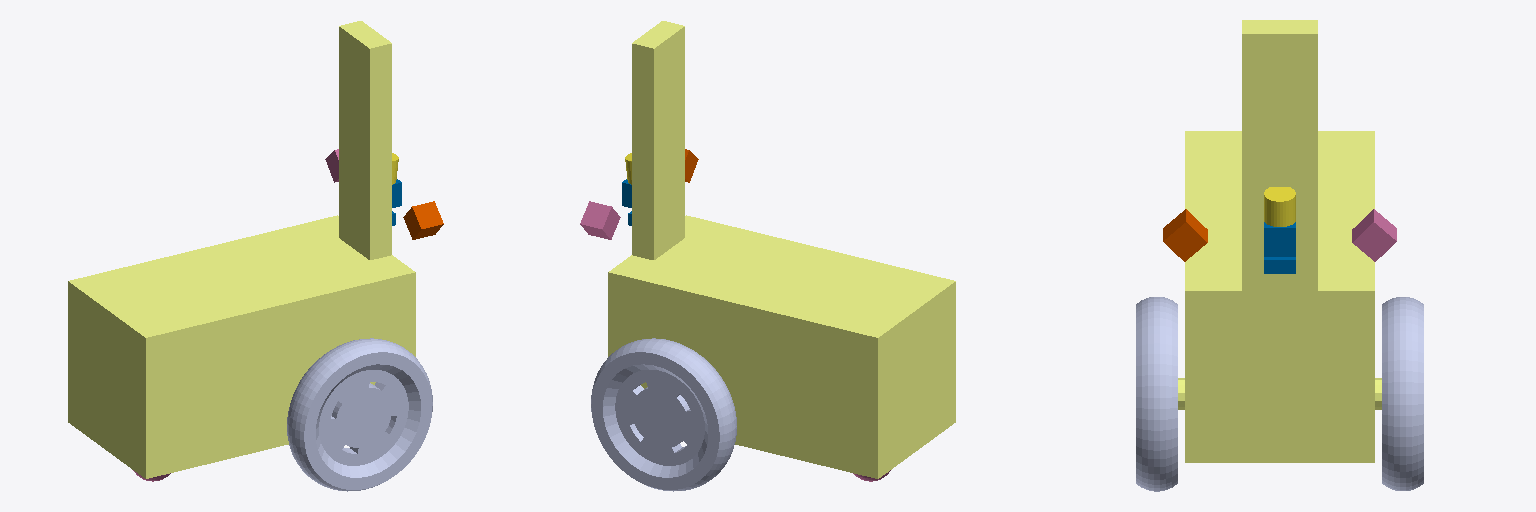
robot.urdf — AutoBot:
<?xml version="1.0" encoding="utf-8"?>
<!-- This URDF was automatically created by SolidWorks to URDF Exporter! Originally created by [author] ([email redacted]) 
     Commit Version: 1.6.0-1-g15f4949  Build Version: 1.6.7594.29634
     For more information, please see http://wiki.ros.org/sw_urdf_exporter -->
<robot
  name="AutoBot">
  <link
    name="base_link">
    <inertial>
      <origin
        xyz="-0.0281176186318505 3.46944695195361E-18 0.0242056021265495"
        rpy="0 0 0" />
      <mass
        value="20" />
      <inertia
        ixx="39.3347960457863"
        ixy="2.85952776841653E-16"
        ixz="-8.3846836729522"
        iyy="84.2765821819787"
        iyz="5.58570830390226E-15"
        izz="71.4566092301352" />
    </inertial>
    <visual>
      <origin
        xyz="0 0 0"
        rpy="0 0 0" />
      <geometry>
        <mesh
          filename="package://AutoBot/meshes/base_link.STL" />
      </geometry>
      <material
        name="">
        <color
          rgba="0.968627450980392 1 0.576470588235294 1" />
      </material>
    </visual>
    <collision>
      <origin
        xyz="0 0 0"
        rpy="0 0 0" />
      <geometry>
        <mesh
          filename="package://AutoBot/meshes/base_link.STL" />
      </geometry>
    </collision>
  </link>
  <link
    name="base_link_to_Left_wheel">
    <inertial>
      <origin
        xyz="5.5511E-17 -0.029868 -1.1102E-16"
        rpy="0 0 0" />
      <mass
        value="8" />
      <inertia
        ixx="0.75096"
        ixy="-1.4332E-17"
        ixz="-1.5881E-17"
        iyy="1.4522"
        iyz="9.1965E-17"
        izz="0.75096" />
    </inertial>
    <visual>
      <origin
        xyz="0 0 0"
        rpy="0 0 0" />
      <geometry>
        <mesh
          filename="package://AutoBot/meshes/base_link_to_Left_wheel.STL" />
      </geometry>
      <material
        name="">
        <color
          rgba="0.79216 0.81961 0.93333 1" />
      </material>
    </visual>
    <collision>
      <origin
        xyz="0 0 0"
        rpy="0 0 0" />
      <geometry>
        <mesh
          filename="package://AutoBot/meshes/base_link_to_Left_wheel.STL" />
      </geometry>
    </collision>
  </link>
  <joint
    name="Left_wheel"
    type="continuous">
    <origin
      xyz="0.24475 0.42 -0.2107"
      rpy="0 0 0" />
    <parent
      link="base_link" />
    <child
      link="base_link_to_Left_wheel" />
    <axis
      xyz="0 1 0" />
  </joint>
  <link
    name="base_link_to_Right_wheel">
    <inertial>
      <origin
        xyz="2.2204E-16 0.029868 -1.1102E-16"
        rpy="0 0 0" />
      <mass
        value="8" />
      <inertia
        ixx="0.75096"
        ixy="1.9739E-18"
        ixz="-6.8063E-17"
        iyy="1.4522"
        iyz="4.3994E-18"
        izz="0.75096" />
    </inertial>
    <visual>
      <origin
        xyz="0 0 0"
        rpy="0 0 0" />
      <geometry>
        <mesh
          filename="package://AutoBot/meshes/base_link_to_Right_wheel.STL" />
      </geometry>
      <material
        name="">
        <color
          rgba="0.79216 0.81961 0.93333 1" />
      </material>
    </visual>
    <collision>
      <origin
        xyz="0 0 0"
        rpy="0 0 0" />
      <geometry>
        <mesh
          filename="package://AutoBot/meshes/base_link_to_Right_wheel.STL" />
      </geometry>
    </collision>
  </link>
  <joint
    name="Right_wheel"
    type="continuous">
    <origin
      xyz="0.24475 -0.42 -0.2107"
      rpy="0 0 0" />
    <parent
      link="base_link" />
    <child
      link="base_link_to_Right_wheel" />
    <axis
      xyz="0 1 0" />
  </joint>

  <link name="lidar">
    <visual>
      <geometry>
        <cylinder radius="0.05" length="0.1"/>
      </geometry>
    </visual>
  </link>

  <gazebo reference="lidar">
    <sensor type="ray" name="lidar">
      <visualize>false</visualize>
      <update_rate>10</update_rate>
      <ray>
        <!-- Use gaussian noise -->
        <!--
        <noise>
        <type>gaussian</type>
        <mean>0.0</mean>
        <stddev>0.02</stddev>
      </noise>
      -->
        <scan>
          <horizontal>
            <samples>100</samples>
            <resolution>3.6</resolution>
            <min_angle>-3.14159265359</min_angle>
            <max_angle>3.14159265359</max_angle>
          </horizontal>
        </scan>
        <range>
          <min>0.05</min>
          <max>30</max>
          <resolution>0.02</resolution>
        </range>
      </ray>
      <plugin name="lidar_plugin" filename="libgazebo_ros_laser.so">
        <topicName>/scan</topicName>
        <frameName>/lidar</frameName>
      </plugin>
    </sensor>
  </gazebo>

  <link name="usb_cam_center">
    <visual>
      <geometry>
        <box size="0.1 0.1 0.1"/>
      </geometry>
    </visual>
  </link>

  <link name="usb_cam_right">
    <visual>
      <geometry>
        <box size="0.1 0.1 0.1"/>
      </geometry>
    </visual>
  </link>

  <link name="usb_cam_left">
    <visual>
      <geometry>
        <box size="0.1 0.1 0.1"/>
      </geometry>
    </visual>
  </link>

  <link name="optical_cam_center"/>
  <link name="optical_cam_right"/>
  <link name="optical_cam_left"/>

  <gazebo reference="usb_cam_center">
    <sensor name="center_camera" type="camera">
        <camera>
          <!-- <horizontal_fov>1.2290609</horizontal_fov> -->
          <horizontal_fov>2.239</horizontal_fov>
          <vertical_fov>1.995</vertical_fov>
          <image>
            <width>640</width>
            <height>512</height>
          </image>
          <clip>
            <near>0.1</near>
            <far>100</far>
          </clip>
          <!--
          <distortion>
            <k1>-0.25</k1>
            <k2>0.12</k2>
            <k3>0.0</k3>
            <p1>-0.00028</p1>
            <p2>-0.00005</p2>
            <center>0.5 0.5</center>
          </distortion>
          -->
        </camera>
        <always_on>1</always_on>
        <update_rate>30</update_rate>
        <plugin name="camera_controller" filename="libgazebo_ros_camera.so">
          <alwaysOn>true</alwaysOn>
          <updateRate>30.0</updateRate>
          <cameraName>usb_cam_center</cameraName>
          <imageTopicName>image_raw_center</imageTopicName>
          <cameraInfoTopicName>camera_info</cameraInfoTopicName>
          <frameName>optical_cam_center</frameName>
          <hackBaseline>0.0</hackBaseline>
          <distortionK1>0.0</distortionK1>
          <distortionK2>0.0</distortionK2>
          <distortionK3>0.0</distortionK3>
          <distortionT1>0.0</distortionT1>
          <distortionT2>0.0</distortionT2>
        </plugin>
      </sensor>
  </gazebo>

  <gazebo reference="usb_cam_right">
    <sensor name="right_camera" type="camera">
        <camera>
          <!-- <horizontal_fov>1.2290609</horizontal_fov> -->
          <horizontal_fov>2.239</horizontal_fov>
          <vertical_fov>1.995</vertical_fov>
          <image>
            <width>640</width>
            <height>512</height>
          </image>
          <clip>
            <near>0.1</near>
            <far>100</far>
          </clip>
          <!--
          <distortion>
            <k1>-0.25</k1>
            <k2>0.12</k2>
            <k3>0.0</k3>
            <p1>-0.00028</p1>
            <p2>-0.00005</p2>
            <center>0.5 0.5</center>
          </distortion>
          -->
        </camera>
        <always_on>1</always_on>
        <update_rate>30</update_rate>
        <plugin name="camera_controller" filename="libgazebo_ros_camera.so">
          <alwaysOn>true</alwaysOn>
          <updateRate>30.0</updateRate>
          <cameraName>usb_cam_right</cameraName>
          <imageTopicName>image_raw_right</imageTopicName>
          <cameraInfoTopicName>camera_info</cameraInfoTopicName>
          <frameName>optical_cam_right</frameName>
          <hackBaseline>0.0</hackBaseline>
          <distortionK1>0.0</distortionK1>
          <distortionK2>0.0</distortionK2>
          <distortionK3>0.0</distortionK3>
          <distortionT1>0.0</distortionT1>
          <distortionT2>0.0</distortionT2>
        </plugin>
      </sensor>
  </gazebo>

  <gazebo reference="usb_cam_left">
    <sensor name="left_camera" type="camera">
        <camera>
          <!-- <horizontal_fov>1.2290609</horizontal_fov> -->
          <horizontal_fov>2.239</horizontal_fov>
          <vertical_fov>1.995</vertical_fov>
          <image>
            <width>640</width>
            <height>512</height>
          </image>
          <clip>
            <near>0.1</near>
            <far>100</far>
          </clip>
          <!--
          <distortion>
            <k1>-0.25</k1>
            <k2>0.12</k2>
            <k3>0.0</k3>
            <p1>-0.00028</p1>
            <p2>-0.00005</p2>
            <center>0.5 0.5</center>
          </distortion>
          -->
        </camera>
        <always_on>1</always_on>
        <update_rate>30</update_rate>
        <plugin name="camera_controller" filename="libgazebo_ros_camera.so">
          <alwaysOn>true</alwaysOn>
          <updateRate>30.0</updateRate>
          <cameraName>usb_cam_left</cameraName>
          <imageTopicName>image_raw_left</imageTopicName>
          <cameraInfoTopicName>camera_info</cameraInfoTopicName>
          <frameName>optical_cam_left</frameName>
          <hackBaseline>0.0</hackBaseline>
          <distortionK1>0.0</distortionK1>
          <distortionK2>0.0</distortionK2>
          <distortionK3>0.0</distortionK3>
          <distortionT1>0.0</distortionT1>
          <distortionT2>0.0</distortionT2>
        </plugin>
      </sensor>
  </gazebo>

  <link name="imu">
    <visual>
      <geometry>
        <box size="0.1 0.1 0.1"/>
      </geometry>
    </visual>
  </link>

  <link name="magnetometer">
    <visual>
      <geometry>
        <box size="0.1 0.1 0.1"/>
      </geometry>
    </visual>
  </link>

  <link name="kinect_cam">
    <visual>
      <geometry>
        <box size="0.1 0.1 0.05"/>
      </geometry>
    </visual>
  </link>

  <link name="gps">
    <visual>
      <geometry>
        <cylinder length="0.05" radius="0.1"/>
      </geometry>
    </visual>
  </link>

  <gazebo>

    <plugin name="gazebo_ros_control" filename="libgazebo_ros_control.so">
      <robotSimType>gazebo_ros_control/DefaultRobotHWSim</robotSimType>
    </plugin>

    <plugin filename="libhector_gazebo_ros_imu.so" name="imu">
      <serviceName>/imu/calibrate</serviceName>
      <updateRate>200.0</updateRate>
      <bodyName>imu</bodyName>
      <frameId>imu</frameId>
      <topicName>/imu</topicName>
      <rpyOffset>0 0 0</rpyOffset>
      <xyzOffset>0 0 0</xyzOffset>
      <gaussianNoise>0.00000001</gaussianNoise>
      <accelDrift>0.00000001 0.00000001 0.00000001</accelDrift>
      <accelDriftFrequency>0.00000001 0.00000001 0.00000001</accelDriftFrequency>
      <accelGaussianNoise>0.00000001 0.00000001 0.00000001</accelGaussianNoise>
      <rateDrift>0.0 0.0 0.0</rateDrift>
      <rateDriftFrequency>0.0 0.0 0.0</rateDriftFrequency>
      <rateGaussianNoise>0.0 0.0 0.0</rateGaussianNoise>
      <headingDrift>0.0 0.0 0.0</headingDrift>
      <headingDriftFrequency>0.0 0.0 0.0</headingDriftFrequency>
      <headingGaussianNoise>0.0 0.0 0.0</headingGaussianNoise>
      <yawOffset>1.5707963</yawOffset>
    </plugin>
    <plugin filename="libhector_gazebo_ros_imu.so" name="magnetometer">
      <serviceName>/magnetometer/calibrate</serviceName>
      <updateRate>200.0</updateRate>
      <bodyName>magnetometer</bodyName>
      <frameId>magnetometer</frameId>
      <topicName>/magnetometer</topicName>
      <rpyOffset>0 0 0</rpyOffset>
      <xyzOffset>0 0 0</xyzOffset>
      <gaussianNoise>0.00000001</gaussianNoise>
      <accelDrift>0.00000001 0.00000001 0.00000001</accelDrift>
      <accelDriftFrequency>0.00000001 0.00000001 0.00000001</accelDriftFrequency>
      <accelGaussianNoise>0.00000001 0.00000001 0.00000001</accelGaussianNoise>
      <rateDrift>0.0 0.0 0.0</rateDrift>
      <rateDriftFrequency>0.0 0.0 0.0</rateDriftFrequency>
      <rateGaussianNoise>0.0 0.0 0.0</rateGaussianNoise>
      <headingDrift>0.0 0.0 0.0</headingDrift>
      <headingDriftFrequency>0.0 0.0 0.0</headingDriftFrequency>
      <headingGaussianNoise>0.0 0.0 0.0</headingGaussianNoise>
      <yawOffset>0</yawOffset>
    </plugin>

    <plugin filename="libhector_gazebo_ros_gps.so" name="gps">
      <updateRate>20.0</updateRate>
      <bodyName>base_link</bodyName>
      <frameId>base_link</frameId>
      <topicName>/fix</topicName>
      <velocityTopicName>/fix_velocity</velocityTopicName>
      <referenceLatitude>33.774497</referenceLatitude>
      <referenceLongitude>-84.405001</referenceLongitude>
      <referenceAltitude>309.0</referenceAltitude>
      <drift>0.001 0.001 0.001</drift>
      <gaussianNoise>0.0001 0.0001 0.0001</gaussianNoise>
      <velocityDrift>0 0 0</velocityDrift>
      <velocityGaussianNoise>0.005 0.005 0.05</velocityGaussianNoise>
    </plugin>

    <plugin name="differential_drive_controller" filename="libgazebo_ros_diff_drive.so">
      <updateRate>50</updateRate>
      <leftJoint>Left_wheel</leftJoint>
      <rightJoint>Right_wheel</rightJoint>
      <wheelSeparation>0.8</wheelSeparation>
      <wheelDiameter>0.31</wheelDiameter>
      <wheelAcceleration>1.0</wheelAcceleration>
      <wheelTorque>20</wheelTorque>
      <commandTopic>cmd_vel</commandTopic>
      <odometryTopic>odom</odometryTopic>
      <odometryFrame>odom</odometryFrame>
      <robotBaseFrame>base_link</robotBaseFrame>
      
      <odometrySource>1</odometrySource>
      <publishWheelTF>true</publishWheelTF>
      <publishOdom>true</publishOdom>
      <publishWheelJointState>true</publishWheelJointState>
      
      <legacyMode>false</legacyMode>
    </plugin> 
  
  </gazebo>

  <gazebo reference="kinect_cam">
    <sensor name="depth_camera" type="depth">
      <update_rate>30</update_rate>
      <camera>
        <horizontal_fov>1.047198</horizontal_fov>
        <image>
          <width>640</width>
          <height>480</height>
          <format>R8G8B8</format>
        </image>
        <clip>
          <near>0.05</near>
          <far>5</far>
        </clip>
      </camera>
      <plugin name="kinect_cam_controller" filename="libgazebo_ros_openni_kinect.so">
        <baseline>0.2</baseline>
        <alwaysOn>true</alwaysOn>
        <updateRate>1.0</updateRate>
        <cameraName>kinect_cam_ir</cameraName>
        <imageTopicName>/kinect_cam/color/image_raw</imageTopicName>
        <cameraInfoTopicName>/kinect_cam/color/camera_info</cameraInfoTopicName>
        <depthImageTopicName>/kinect_cam/depth/image_raw</depthImageTopicName>
        <depthImageInfoTopicName>/kinect_cam/depth/camera_info</depthImageInfoTopicName>
        <pointCloudTopicName>/kinect_cam/depth/points</pointCloudTopicName>
        <frameName>frame_name</frameName>
        <pointCloudCutoff>0.5</pointCloudCutoff>
        <pointCloudCutoffMax>3.0</pointCloudCutoffMax>
        <distortionK1>0.00000001</distortionK1>
        <distortionK2>0.00000001</distortionK2>
        <distortionK3>0.00000001</distortionK3>
        <distortionT1>0.00000001</distortionT1>
        <distortionT2>0.00000001</distortionT2>
        <CxPrime>0</CxPrime>
        <Cx>0</Cx>
        <Cy>0</Cy>
        <focalLength>0</focalLength>
        <hackBaseline>0</hackBaseline>
      </plugin>
    </sensor>
  </gazebo>

  <transmission name="trans_left_wheel">
    <type>transmission_interface/SimpleTransmission</type>
    <joint name="Left_wheel">
      <hardwareInterface>hardware_interface/EffortJointInterface</hardwareInterface>
    </joint>
    <actuator name="motor1">
      <hardwareInterface>hardware_interface/EffortJointInterface</hardwareInterface>
      <mechanicalReduction>1</mechanicalReduction>
    </actuator>
  </transmission>

  <transmission name="trans_right_wheel">
    <type>transmission_interface/SimpleTransmission</type>
    <joint name="Right_wheel">
      <hardwareInterface>hardware_interface/EffortJointInterface</hardwareInterface>
    </joint>
    <actuator name="motor1">
      <hardwareInterface>hardware_interface/EffortJointInterface</hardwareInterface>
      <mechanicalReduction>1</mechanicalReduction>
    </actuator>
  </transmission>
  
  <gazebo reference="base_link">
    <material>Gazebo/Grey</material>
    <mu1>0.2</mu1>
    <mu2>0.2</mu2>
  </gazebo>

  <gazebo reference="Left_wheel">
    <material>Gazebo/Grey</material>
    <mu1>0.4</mu1>
    <mu2>0.4</mu2>
  </gazebo>

  <gazebo reference="Right_wheel">
    <material>Gazebo/Grey</material>
    <mu1>0.4</mu1>
    <mu2>0.4</mu2>
  </gazebo>


  <joint name="base_link_to_imu" type="fixed">
    <parent link="base_link"/>
    <child link="imu"/>
    <origin xyz=" 0 0 0" rpy="0 0 0"/>
    <axis xyz="0 0 0"/>
  </joint>

  <joint name="base_link_to_magnetometer" type="fixed">
    <parent link="base_link"/>
    <child link="magnetometer"/>
    <origin xyz="0 0 0" rpy="0 0 0"/>
    <axis xyz="0 0 0"/>
  </joint>


  <joint name="base_link_to_lidar" type="fixed">
    <origin xyz="0.58 0 0.6" rpy="0 6.4 0" />
    <parent link="base_link"/>
    <child link="lidar"/>
  </joint>

<!-- center cam link orientation-->
  <joint name="base_link_to_center_camera" type="fixed">
    <origin xyz="0.58 0 0.5" rpy="0 0 0" />
    <parent link="base_link"/>
    <child link="usb_cam_center"/>
  </joint>
  <joint name="optical_cam_center_joint" type="fixed">
    <parent link="usb_cam_center"/>
    <child link="optical_cam_center"/>
    <origin xyz="0 0 0" rpy="-1.5708 0 -1.5708"/>
  </joint>

<!-- right cam link orientation-->
  <joint name="base_link_to_right_camera" type="fixed">
    <origin xyz="0.58 -0.3 0.5" rpy="0 0.75 -1.5708" />
    <parent link="base_link"/>
    <child link="usb_cam_right"/>
  </joint>
  <joint name="optical_cam_right_joint" type="fixed">
    <parent link="usb_cam_right"/>
    <child link="optical_cam_right"/>
    <!--origin xyz="0 0 0" rpy="-1.5708-0.5 0 -1.5708"/-->
    <origin xyz="0 0 0" rpy="-1.5708 0 -1.5708"/>
  </joint>

<!-- left cam link orientation-->
  <joint name="base_link_to_left_camera" type="fixed">
    <origin xyz="0.58 0.3 0.5" rpy="0 0.75 1.5708" />
    <parent link="base_link"/>
    <child link="usb_cam_left"/>
  </joint>
  <joint name="optical_cam_left_joint" type="fixed">
    <parent link="usb_cam_left"/>
    <child link="optical_cam_left"/>
    <!--origin xyz="0 0 0" rpy="-1.5708-0.5 0 -1.5708"/-->
    <origin xyz="0 0 0" rpy="-1.5708 0 -1.5708"/>
  </joint>

  <joint name="base_link_to_kinect_cam" type="fixed">
    <origin xyz="0.55 0 0.4" rpy="0 0 0" />
    <parent link="base_link"/>
    <child link="kinect_cam"/>
  </joint>

  <joint name="base_link_to_gps" type="fixed">
    <origin xyz="0 0 0" rpy="0 0 0" /> <!-- -1.5708 -->
    <parent link="base_link"/>
    <child link="gps"/>
  </joint>

  <link name="caster">
    <inertial>
      <mass value="1.0" />
      <origin xyz="0 0 0" />
      <mass value="10.0" />
      <inertia  ixx="0.1" ixy="0.0"  ixz="0.0"  iyy="0.1"  iyz="0.0"  izz="0.1" />
    </inertial>
    <visual>
      <geometry>
        <sphere radius="0.09"/>
      </geometry>
    </visual>
    <collision>
      <geometry>
        <sphere radius="0.09"/>
      </geometry>
    </collision>
  </link>

  <joint name="base_link_to_caster" type="fixed">
    <parent link="base_link"/>
    <child link="caster"/>
    <origin xyz="-0.45 0.0 -0.39" rpy="0 0 0" />
  </joint>
 
 <gazebo reference="caster">
    <mu2>0.1</mu2>
    <mu1>0.1</mu1>
  </gazebo>

   <gazebo> 
    <joint name='base_link_to_caster' type='ball'>
      <parent>base_link</parent>
      <child>caster</child>
      <pose frame=''>0 0 0 0 0 0</pose>
     
    </joint>
  </gazebo> 

</robot>

--- Render facts (derived) ---
The picture shows the robot from 3 angles, left to right: view 1: azimuth 30°, elevation 25°; view 2: azimuth 150°, elevation 25°; view 3: azimuth 270°, elevation 25°; orthographic projection.
Model AutoBot with 15 links and 14 joints (2 continuous, 12 fixed), rooted at base_link, posed every joint at zero.
Links seen in each view (by area): view 1: base_link, base_link_to_Right_wheel, usb_cam_right; view 2: base_link, base_link_to_Left_wheel, usb_cam_left; view 3: base_link, base_link_to_Right_wheel, base_link_to_Left_wheel, usb_cam_right, usb_cam_left, lidar, usb_cam_center, kinect_cam.
Boxes of the visible links, left/top/right/bottom form: base_link: left=68, top=21, right=415, bottom=478; base_link_to_Right_wheel: left=287, top=338, right=432, bottom=491; usb_cam_right: left=403, top=201, right=443, bottom=239; base_link: left=608, top=21, right=955, bottom=478; base_link_to_Left_wheel: left=591, top=338, right=736, bottom=491; usb_cam_left: left=580, top=201, right=620, bottom=239; base_link: left=1178, top=20, right=1381, bottom=462; base_link_to_Right_wheel: left=1136, top=297, right=1177, bottom=491; base_link_to_Left_wheel: left=1382, top=297, right=1423, bottom=490; usb_cam_right: left=1163, top=209, right=1207, bottom=261; usb_cam_left: left=1352, top=209, right=1396, bottom=261; lidar: left=1264, top=187, right=1295, bottom=226; usb_cam_center: left=1264, top=222, right=1295, bottom=256; kinect_cam: left=1264, top=257, right=1295, bottom=273.
Size in the robot's own frame: 1.29 by 0.9107 by 1.71 metres.
Meshes: 3 distinct files referenced, 3 mesh visuals loaded (3 binary STL).
